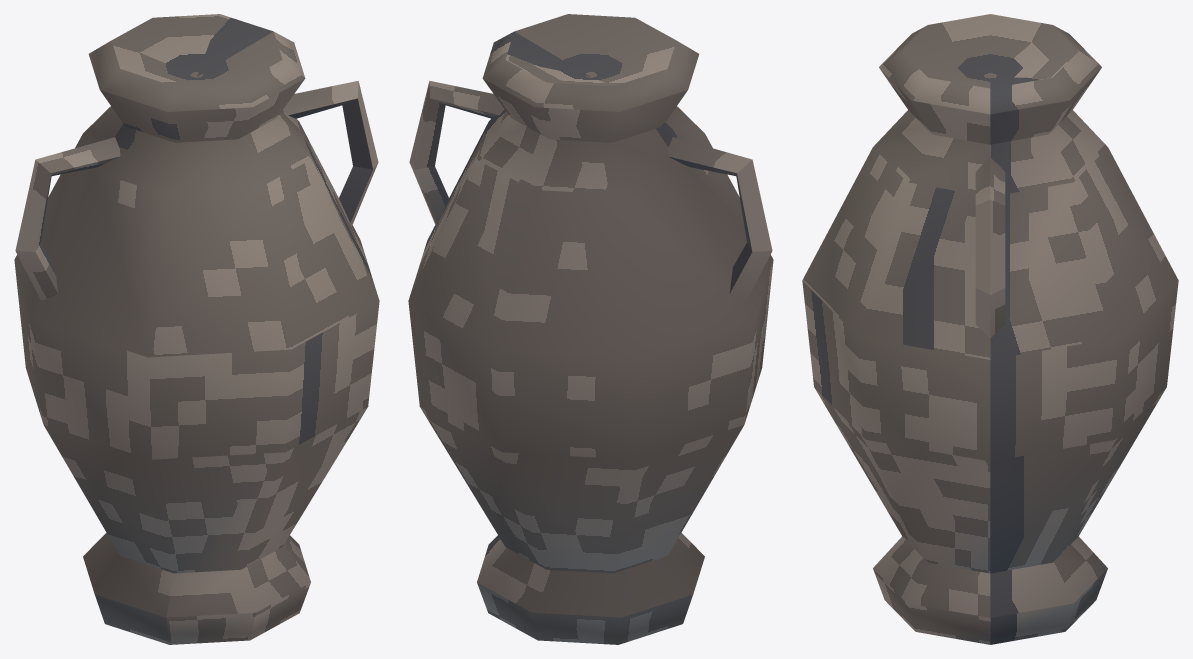
Rendered from dprop.breakable__urn.glb.
3 renders of one model, left to right at view 1: azimuth 30°, elevation 25°; view 2: azimuth 150°, elevation 25°; view 3: azimuth 270°, elevation 25°, orthographic.
Parts seen in each view (by area): view 1: kit_urn, kit_handles; view 2: kit_urn, kit_handles; view 3: kit_urn, kit_handles.
Boxes of the visible parts, <box> form: kit_urn: <box>14,14,379,644</box>; kit_handles: <box>15,80,378,300</box>; kit_urn: <box>408,14,773,644</box>; kit_handles: <box>409,80,772,300</box>; kit_urn: <box>802,14,1178,644</box>; kit_handles: <box>975,158,1005,338</box>.
Bounding box in the file's own units: 0.7098 × 1.03 × 0.64.
Materials: 1 (1 with a texture image).
